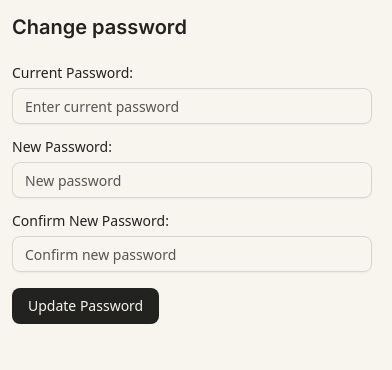
it: ChangePassword Component (src/components/account/ChangePassword.tsx) › shows validation error if new password does not match confirm new password
The image size is (392, 370).
Type "oldPassword123" into the password field labelled "Current Password:" at (192, 106), box [12,88,372,124]
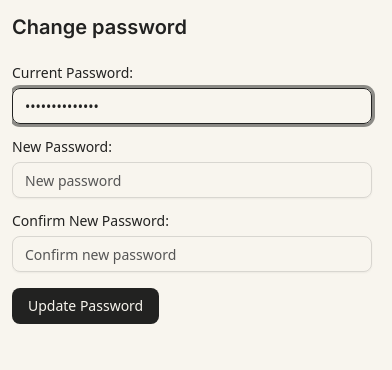
Type "newPassword123" into the password field labelled "New Password:" at (192, 180), box [12,162,372,198]
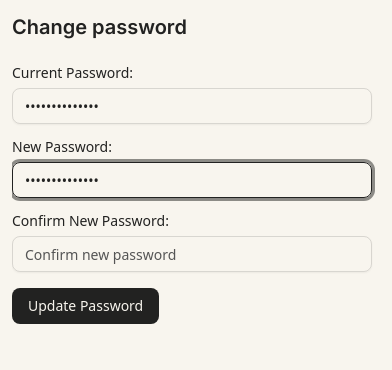
Type "differentPass1" into the password field labelled "Confirm New Password:" at (192, 254), box [12,236,372,272]
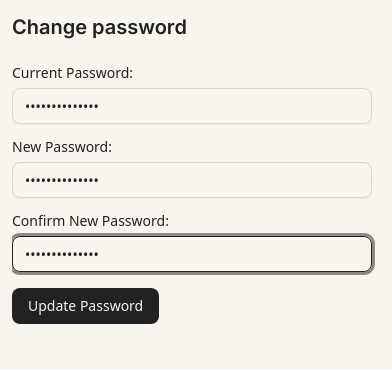
Click the button "Update Password" at (86, 306), box [12,288,159,324]
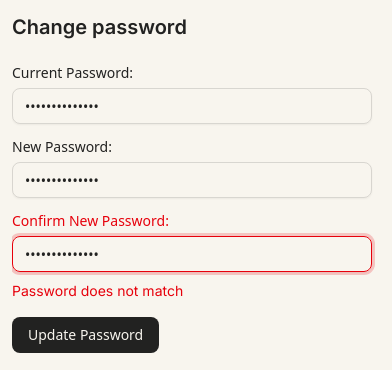
Expected: the text "Password does not match" is shown, [12,282,183,299]
